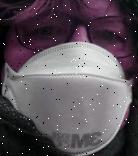with_mask: (2, 1, 138, 156)
